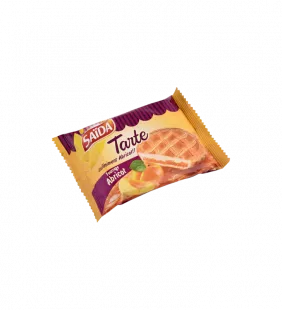SAIDA: (43, 83, 237, 229)
